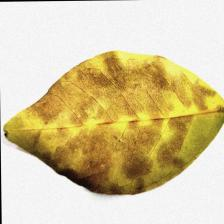black spot: (74, 79, 175, 173)
